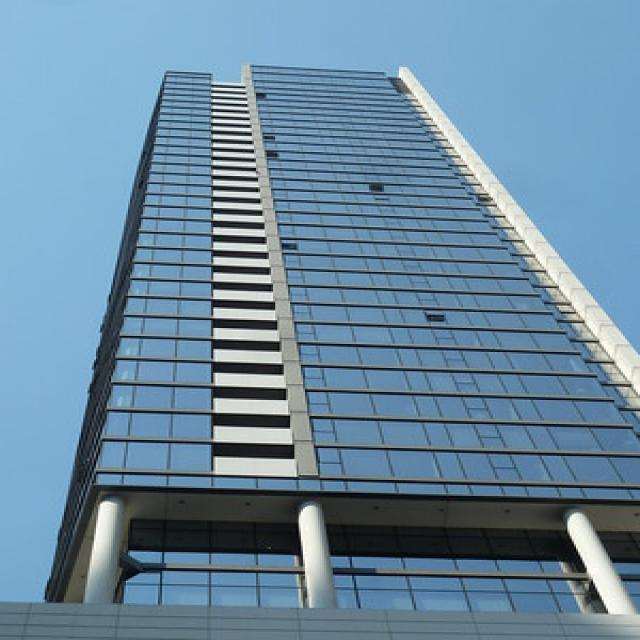Normal_building: (38, 62, 640, 640)
